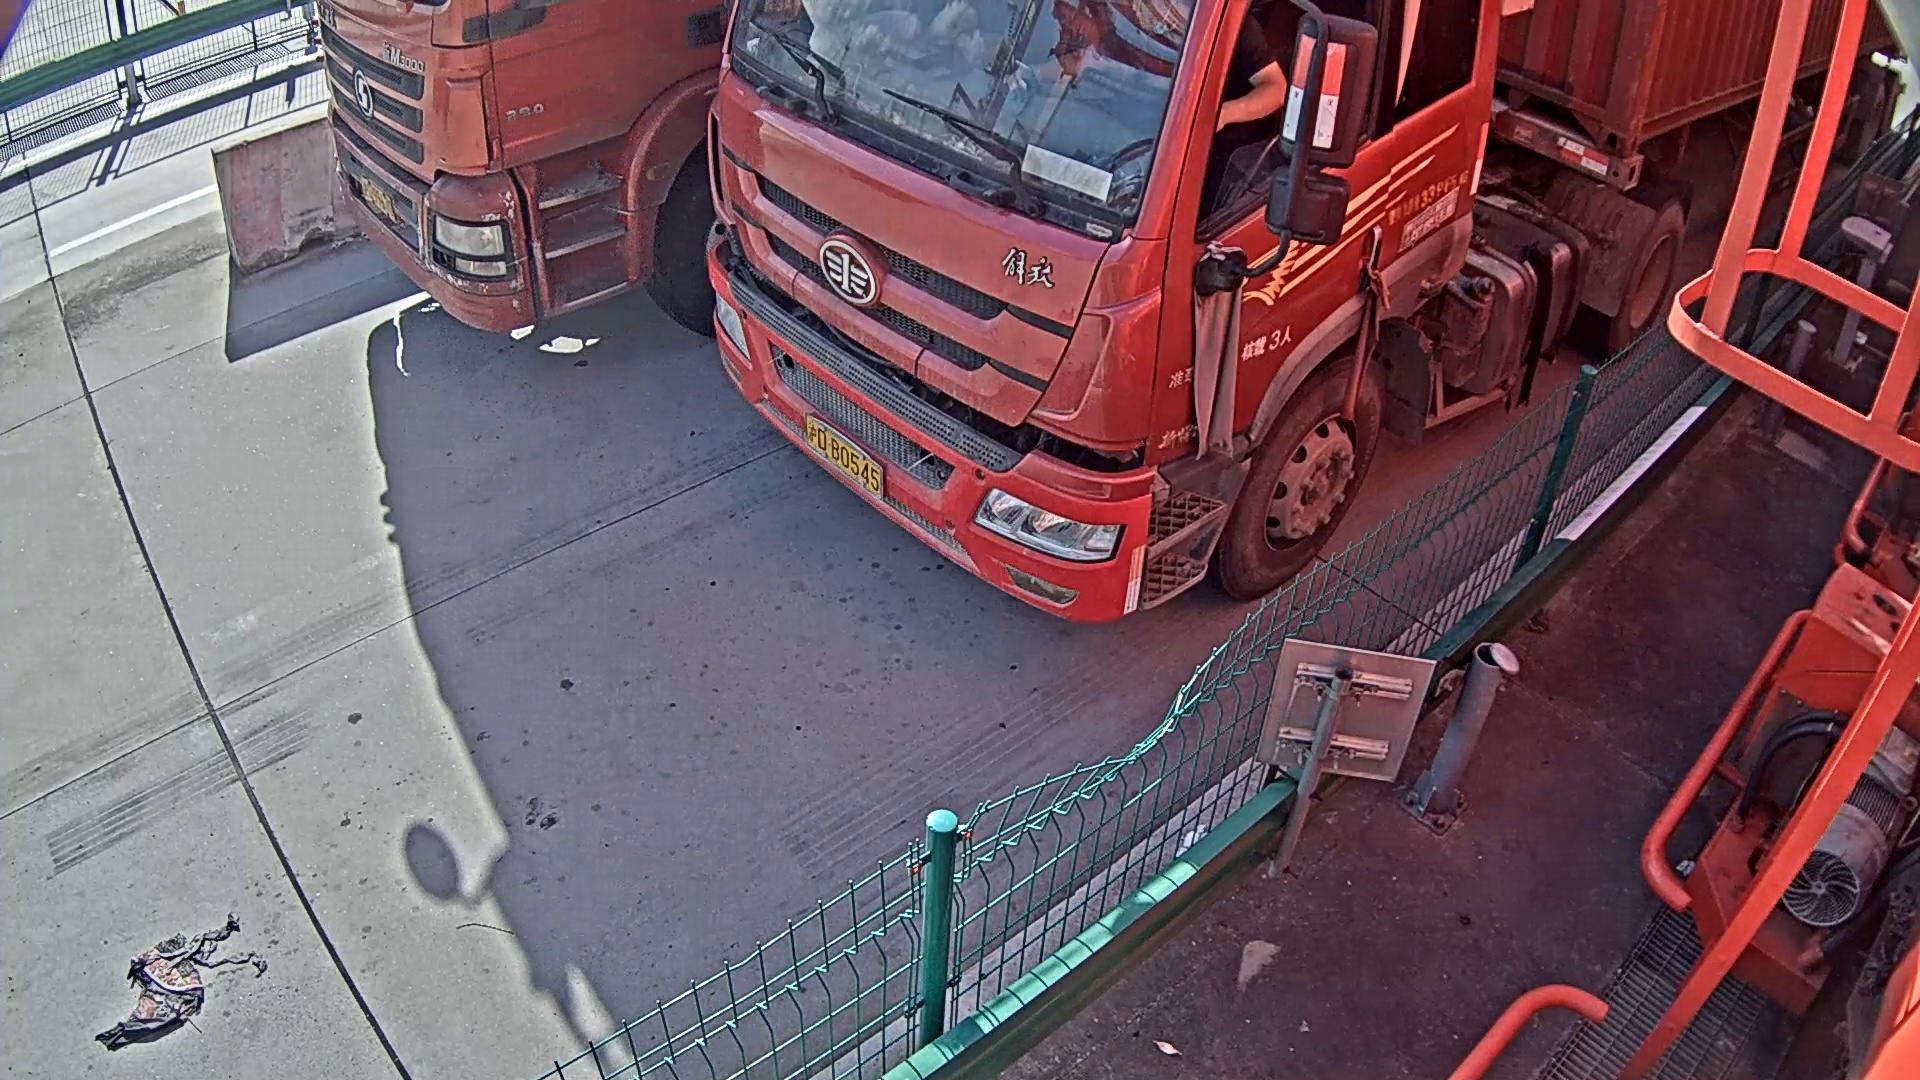head: (712, 1, 1491, 622)
plate: (802, 412, 888, 502)
